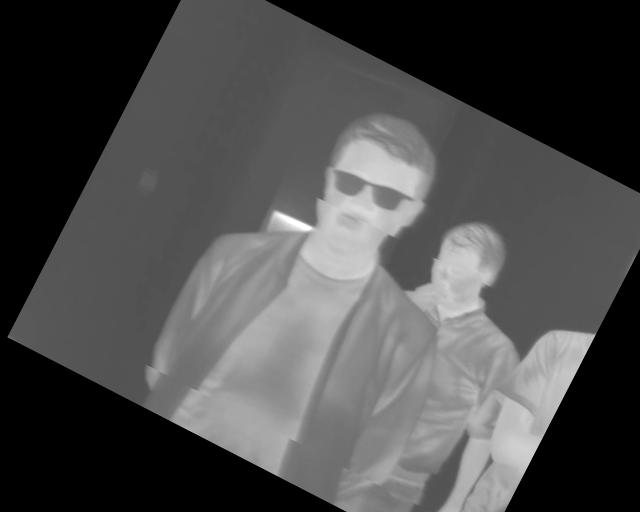face: (297, 95, 456, 270), (412, 207, 519, 325)
